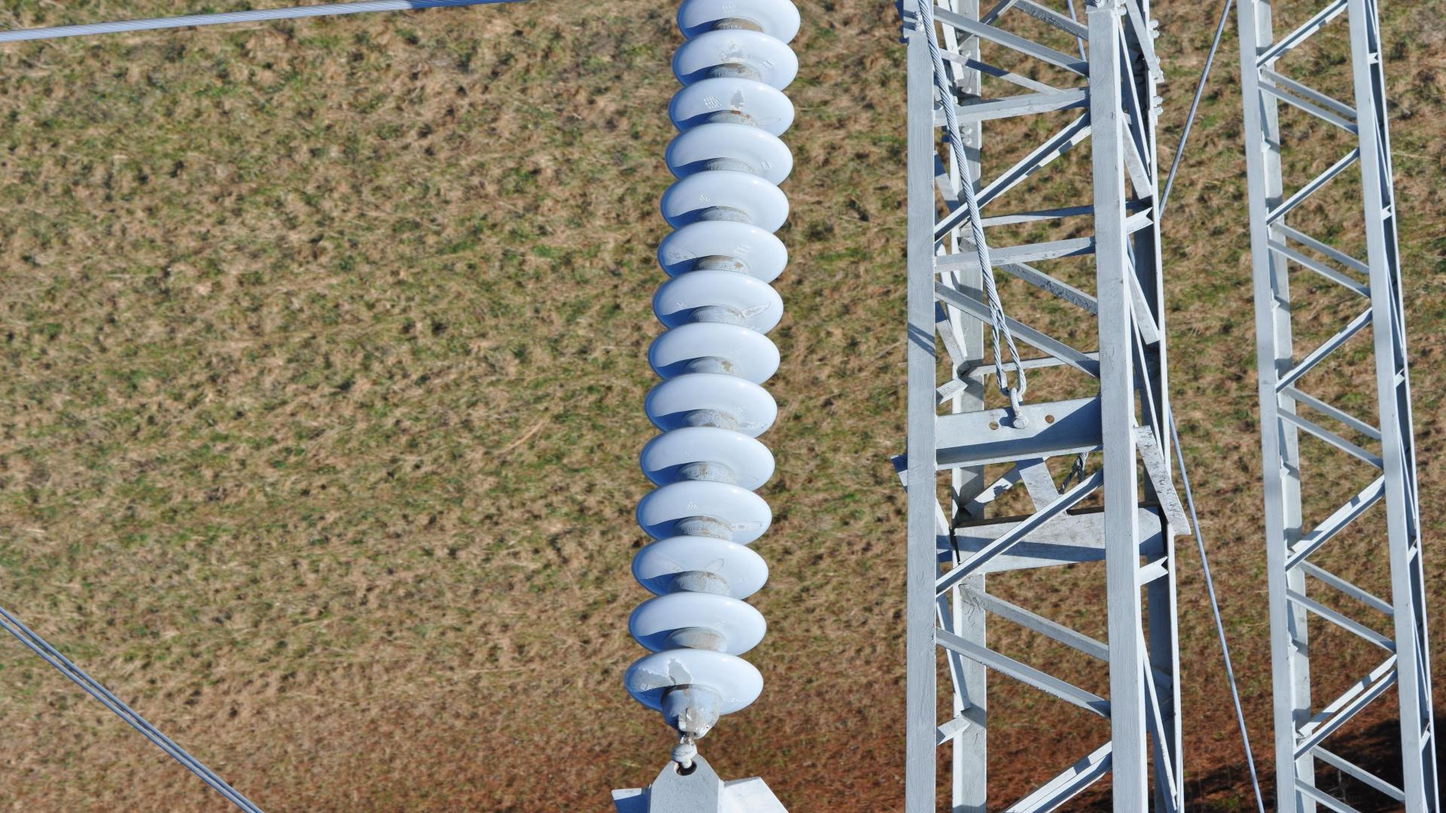insulator: (619, 1, 809, 726)
insulator_flashover: (622, 656, 691, 708)
